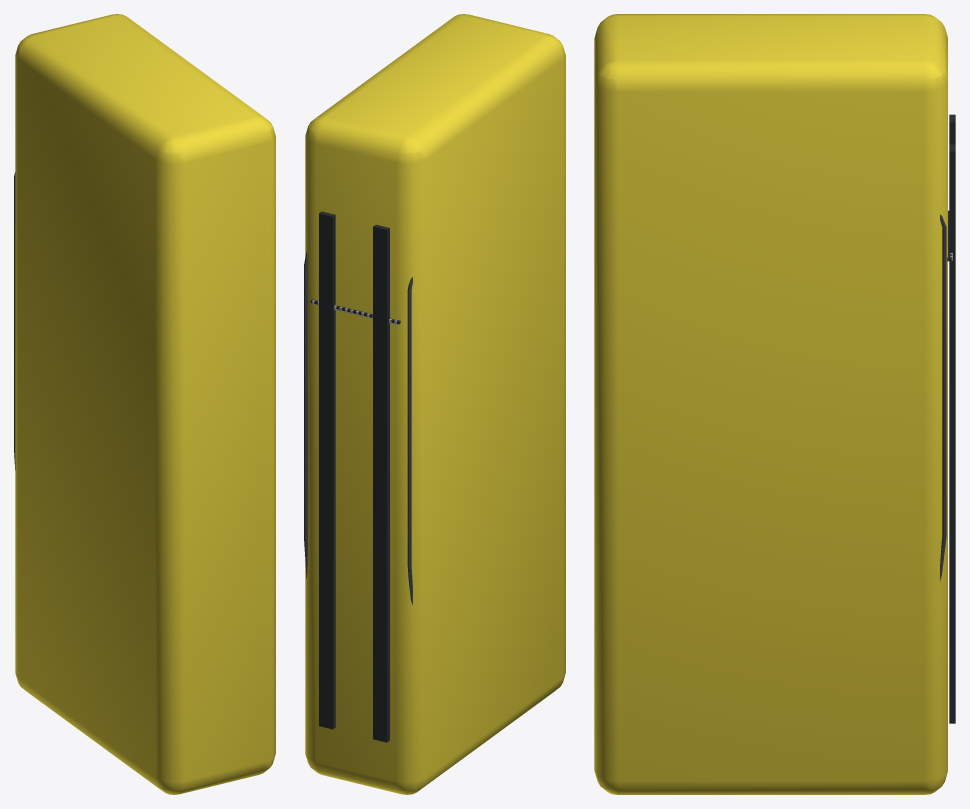
The model's file is ob_yellow_rescue_pack.glb.
3 views of the same model, side by side, from view 1: azimuth 30°, elevation 25°; view 2: azimuth 150°, elevation 25°; view 3: azimuth 270°, elevation 25° (orthographic). The views are drawn at different scales.
Parts seen in each view (by area): view 1: ob_yellow_rescue_pack; view 2: ob_yellow_rescue_pack; view 3: ob_yellow_rescue_pack.
Boxes of the visible parts, box(x1,y1,x2,y2) form: ob_yellow_rescue_pack: box(14, 14, 275, 794); ob_yellow_rescue_pack: box(304, 14, 565, 794); ob_yellow_rescue_pack: box(594, 14, 955, 794).
Bounding box in the file's own units: 0.21 × 1.12 × 0.5.
